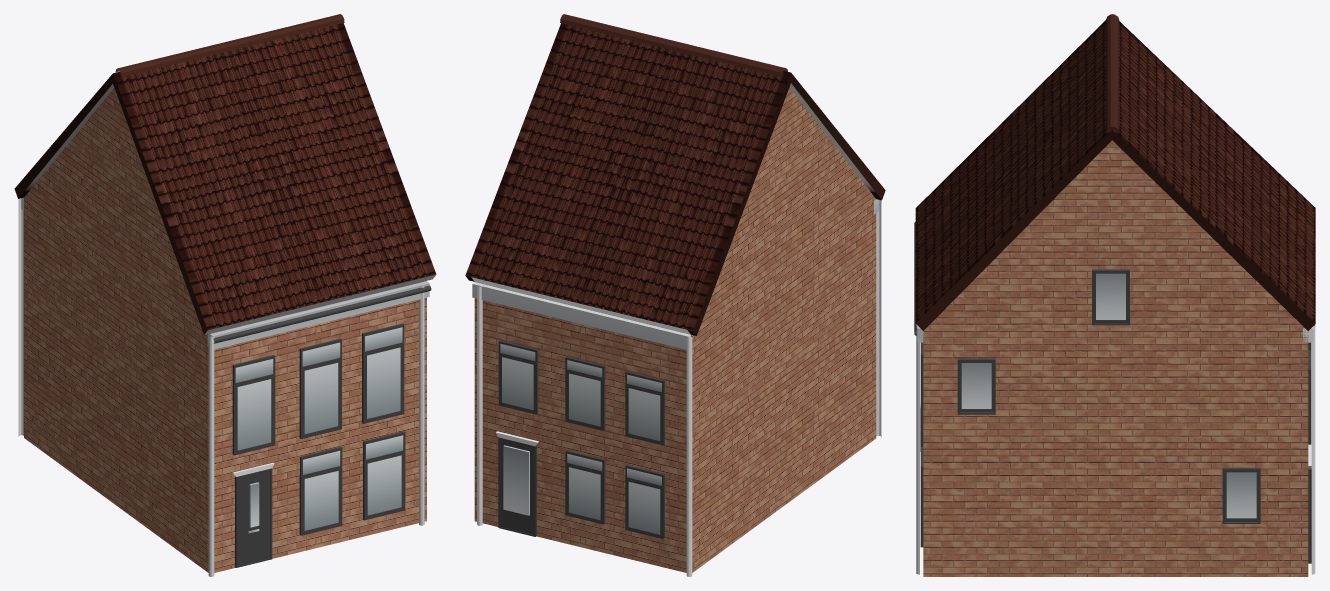
The model's file is It_Tek_12.fbx.
3 renders of one model, left to right at view 1: azimuth 30°, elevation 25°; view 2: azimuth 150°, elevation 25°; view 3: azimuth 270°, elevation 25°, orthographic. The views are drawn at different scales.
Visible parts, largest first — view 1: It_Tek_12; view 2: It_Tek_12; view 3: It_Tek_12.
Boxes of the visible parts, x1=… form: It_Tek_12: x1=14, y1=14, x2=436, y2=576; It_Tek_12: x1=465, y1=14, x2=885, y2=576; It_Tek_12: x1=914, y1=14, x2=1315, y2=576.
Bounding box in the file's own units: 638 × 1167 × 937.
